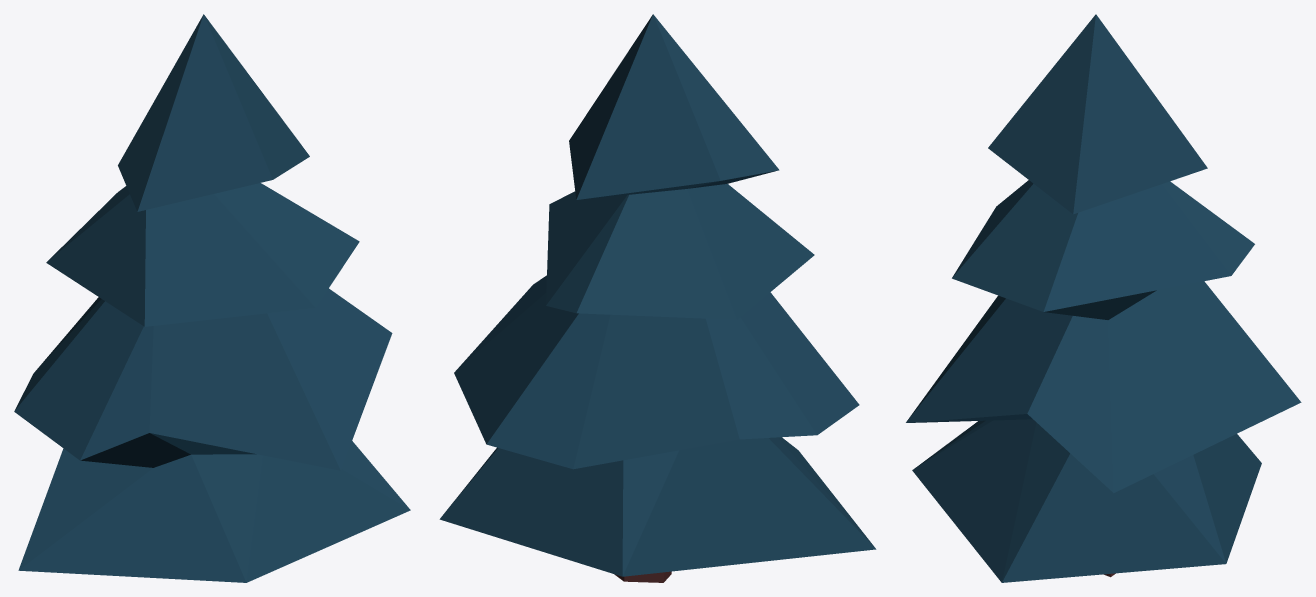
The model's file is TreeAutumn5_Alt4.fbx.
The picture shows the model from 3 angles, left to right: view 1: azimuth 30°, elevation 25°; view 2: azimuth 150°, elevation 25°; view 3: azimuth 270°, elevation 25°; orthographic projection. The views are drawn at different scales.
Parts seen in each view (by area): view 1: TreeAutumn5_Alt4; view 2: TreeAutumn5_Alt4; view 3: TreeAutumn5_Alt4.
Part boxes in pixels (x1,y1,x2,y2): TreeAutumn5_Alt4: (14, 14, 410, 582); TreeAutumn5_Alt4: (439, 14, 876, 582); TreeAutumn5_Alt4: (906, 14, 1301, 582).
Size of the model in its own units: 1.27 by 1.72 by 1.13.
